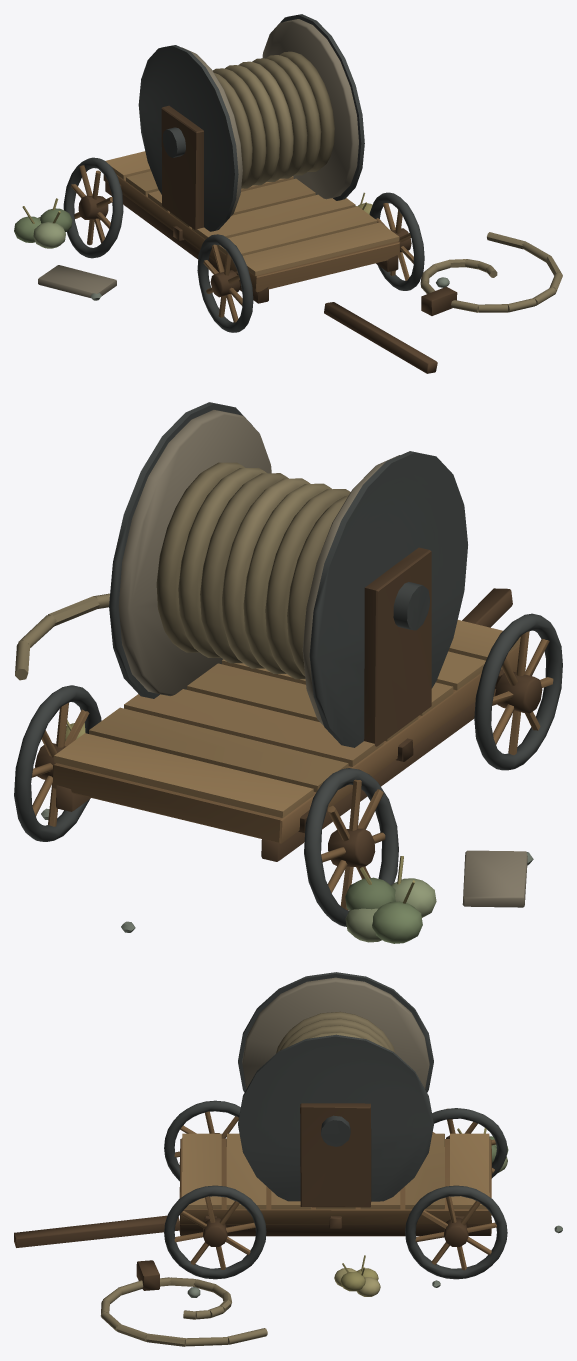
The model's file is rope_drum_wagon_b_lod1.glb.
3 views of the same model, one above another, from view 1: azimuth 30°, elevation 25°; view 2: azimuth 150°, elevation 25°; view 3: azimuth 270°, elevation 25° (orthographic). The views are drawn at different scales.
Visible parts, largest first — view 1: Surface.001; view 2: Surface.001; view 3: Surface.001.
Boxes of the visible parts, bbox=[...] form: Surface.001: bbox=[14, 14, 562, 373]; Surface.001: bbox=[14, 402, 562, 943]; Surface.001: bbox=[14, 972, 562, 1346].
Bounding box in the file's own units: 10.74 × 5.91 × 12.3.
